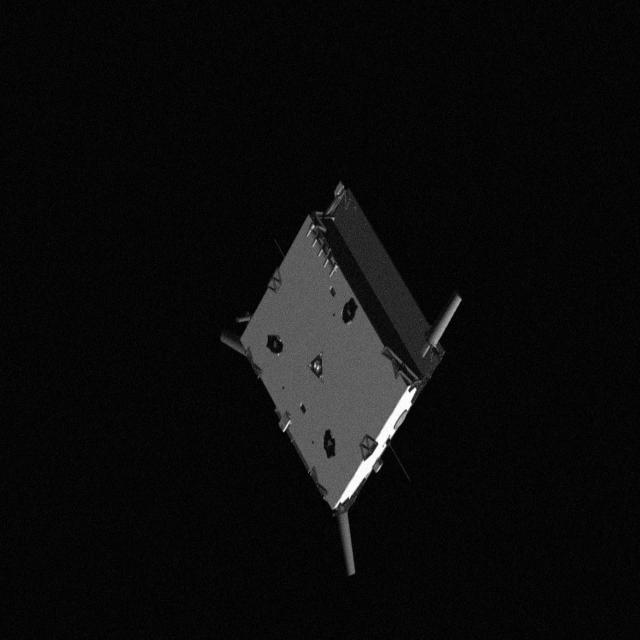satellite: (220, 184, 488, 582)
